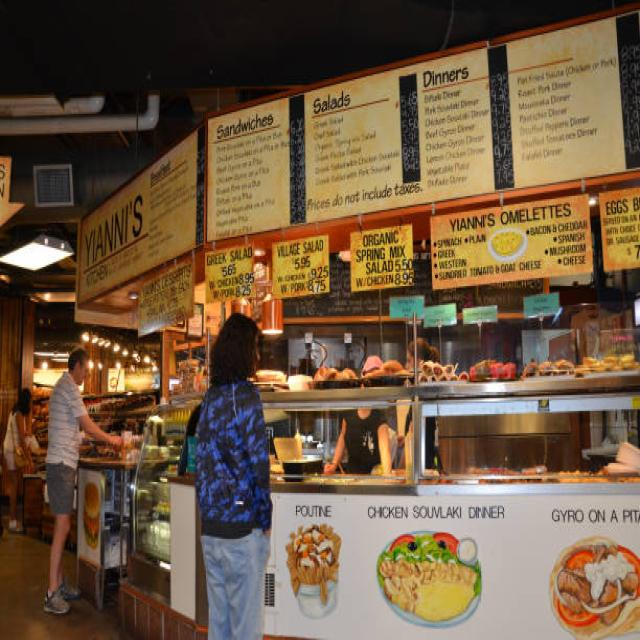Emperan: (76, 0, 640, 640)
